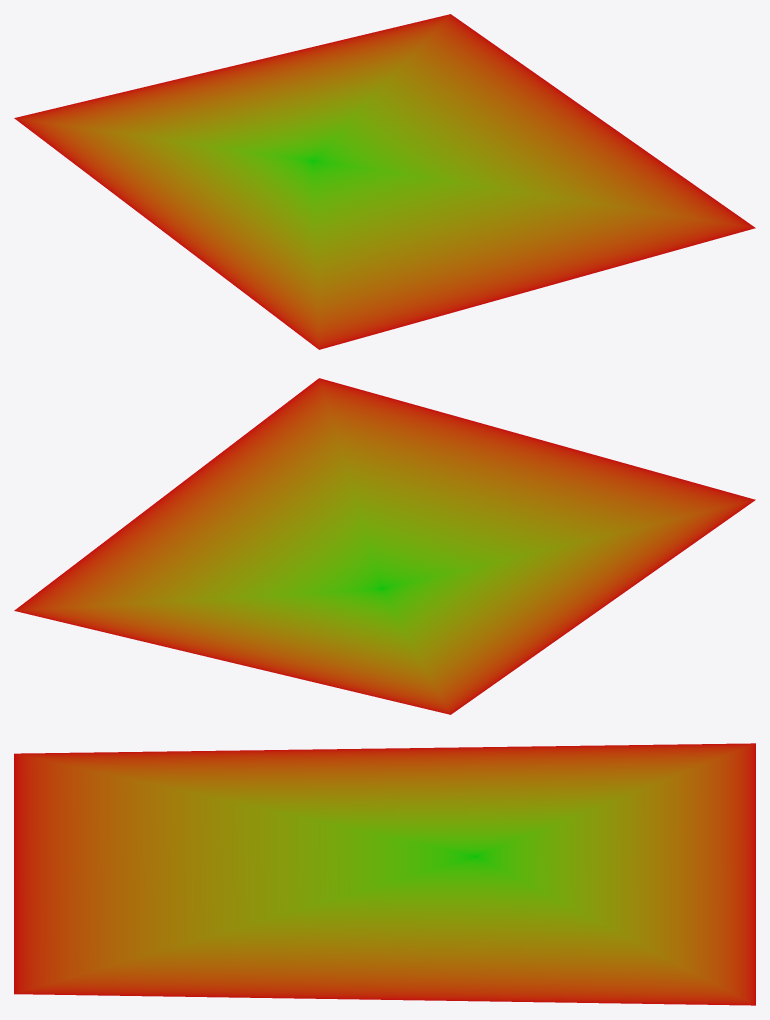
The model's file is Mile-a-minute Vine_LOD3_Var4_sfqns.fbx.
3 renders of one model, top to bottom at view 1: azimuth 30°, elevation 25°; view 2: azimuth 150°, elevation 25°; view 3: azimuth 270°, elevation 25°, orthographic. The views are drawn at different scales.
Visible parts, largest first — view 1: _d143_Var4_LOD3; view 2: _d143_Var4_LOD3; view 3: _d143_Var4_LOD3.
Boxes of the visible parts, <box> form: _d143_Var4_LOD3: <box>14,14,755,349</box>; _d143_Var4_LOD3: <box>14,378,755,714</box>; _d143_Var4_LOD3: <box>14,743,755,1005</box>.
Bounding box in the file's own units: 41.63 × 1.39 × 50.38.
